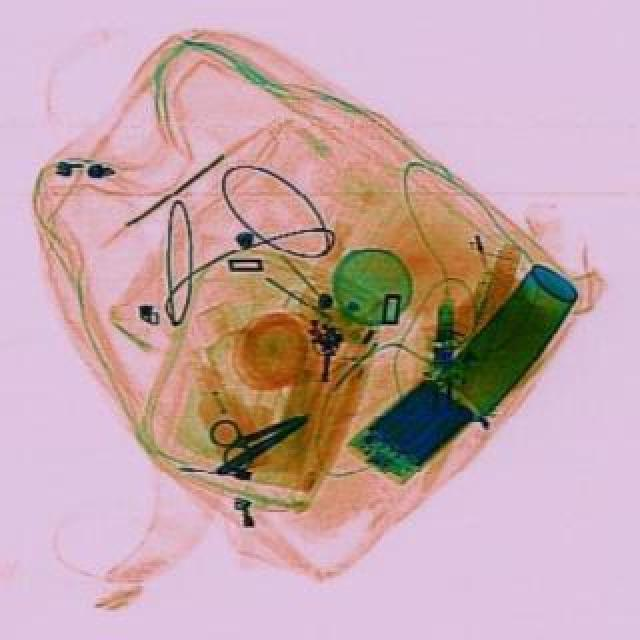pliers: (202, 390, 318, 476)
